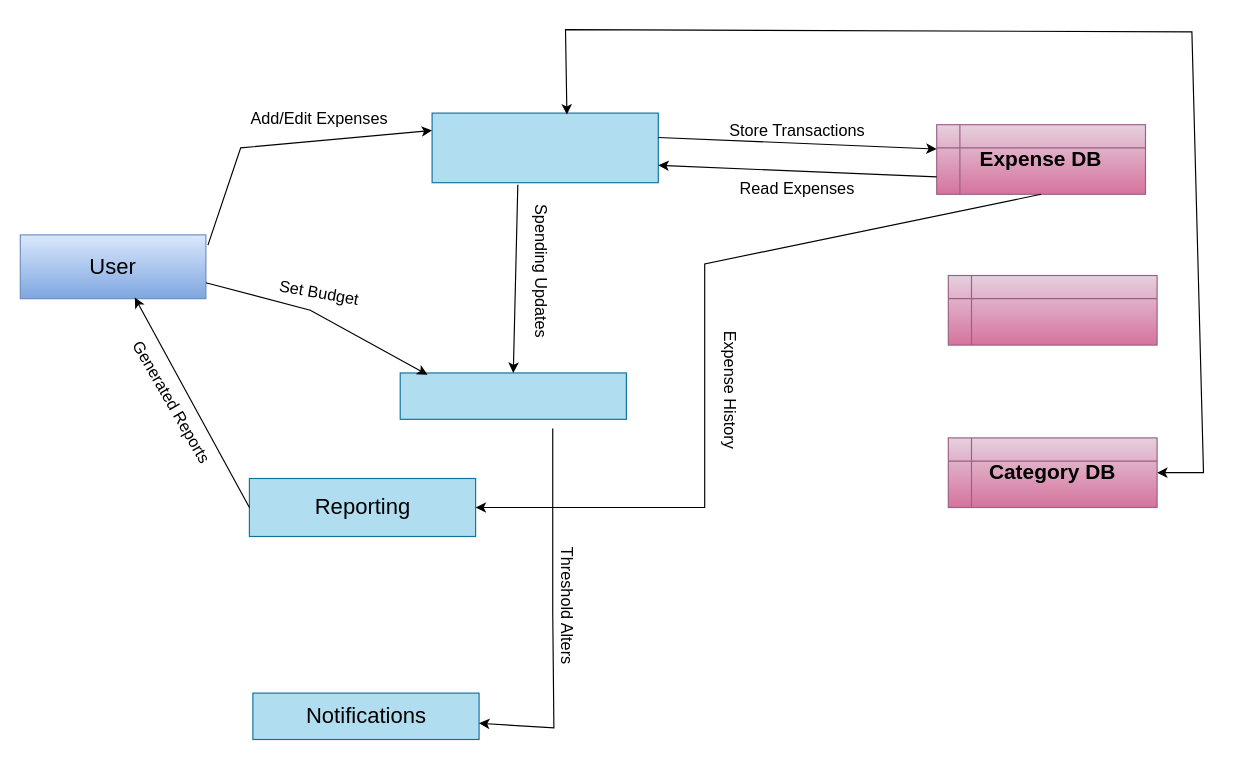
Image size: 1234x760. Some labels were removed from this diagram. Each missing label, with the centre of its shape:
"Budget Control" goes at point (512, 395).
"Budget DB" goes at point (1052, 309).
"Expense Management" goes at point (544, 147).
